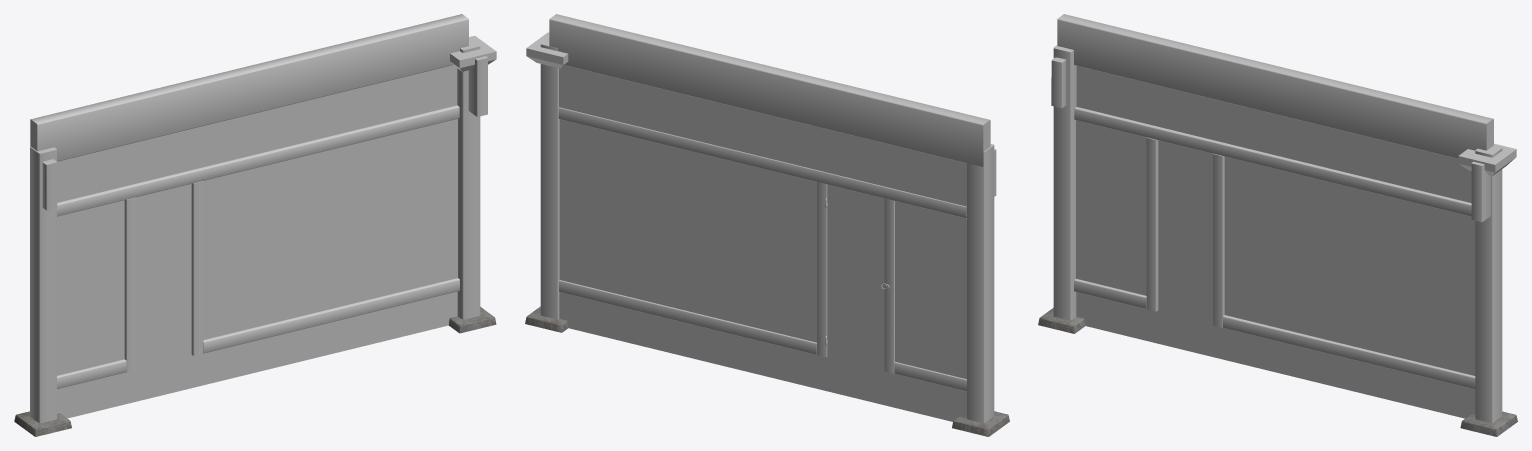
File: SM_Building_Wall_32.FBX
3 renders of one model, left to right at view 1: azimuth 30°, elevation 25°; view 2: azimuth 150°, elevation 25°; view 3: azimuth 330°, elevation 25°, orthographic.
Visible parts, largest first — view 1: SM_Building_Wall_32; view 2: SM_Building_Wall_32; view 3: SM_Building_Wall_32.
Part boxes in pixels (x1,y1,x2,y2): SM_Building_Wall_32: (14,14,496,436); SM_Building_Wall_32: (525,14,1009,436); SM_Building_Wall_32: (1038,14,1517,436).
Bounding box in the file's own units: 1340 × 843 × 124.
